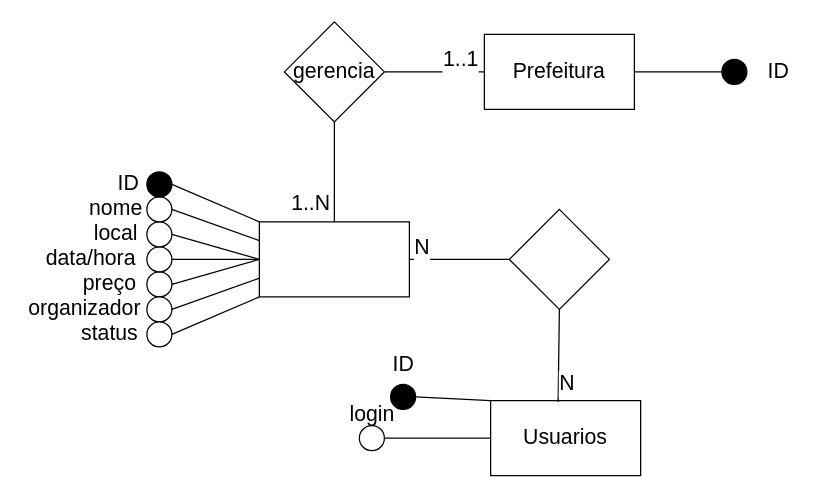
This 818x498 diagram has some shape labels left out. Here are the shapes that lost their labels. From the top down, the box of each, then its label:
(258, 221, 409, 297): Eventos
(508, 208, 609, 309): Participa
